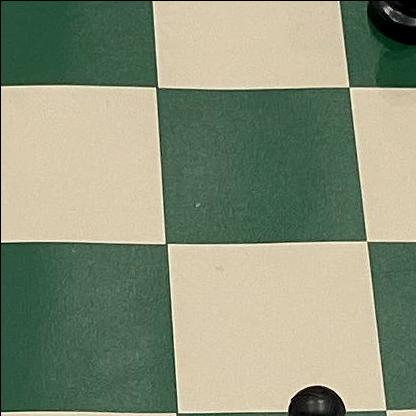black-pawn: (225, 362, 379, 416)
